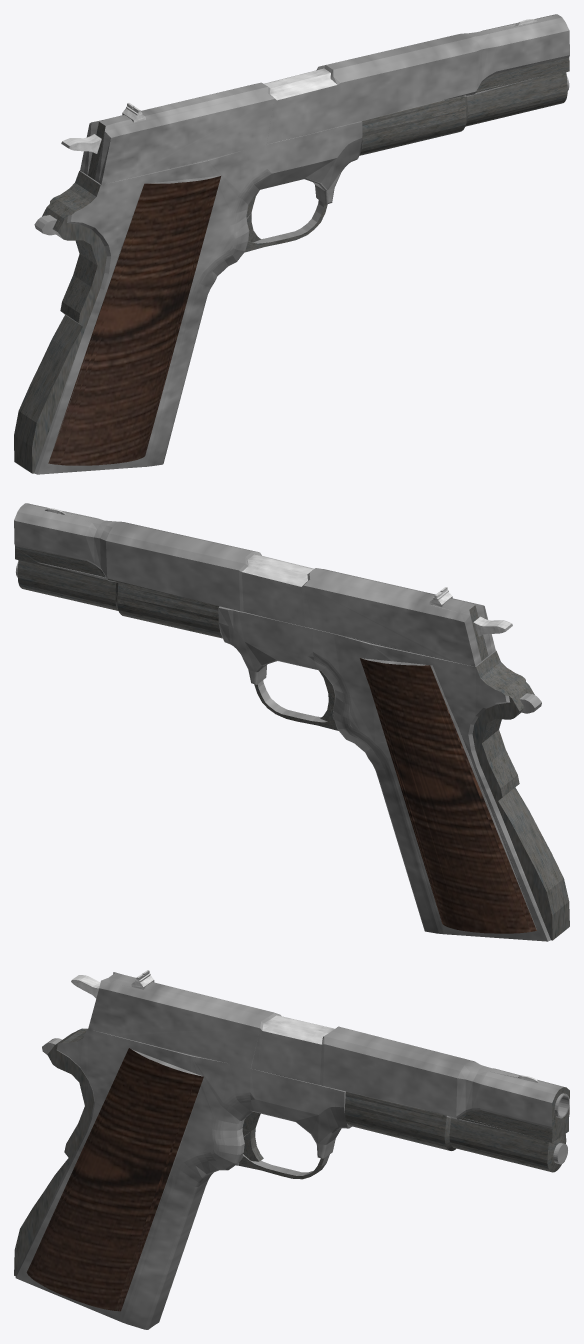
Rendered from colt01.glb.
The picture shows the model from 3 angles, top to bottom: view 1: azimuth 30°, elevation 25°; view 2: azimuth 150°, elevation 25°; view 3: azimuth 330°, elevation 25°; orthographic projection. The views are drawn at different scales.
Size of the model in its own units: 0.0649 by 0.04 by 0.00789.
Materials: 7 (7 with a texture image).
